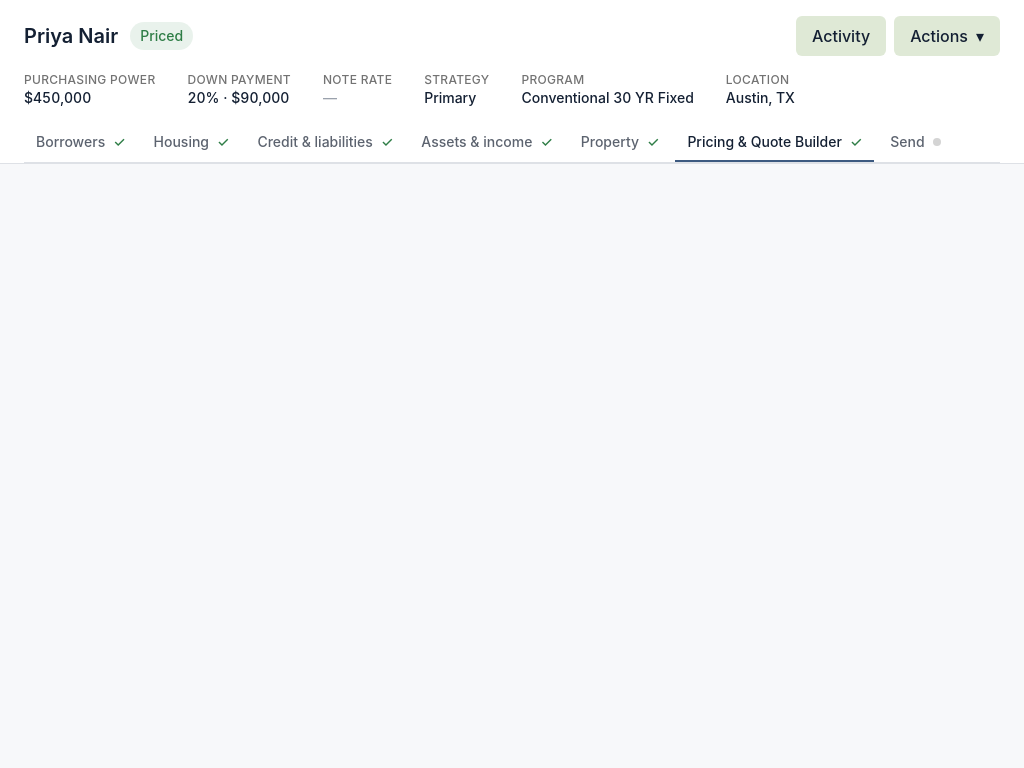
Test case: WorkspaceHeader (AC2/AC3) › opens the activity timeline drawer from the Activity button
Click the button "Activity". click: click(841, 36)
box: [796, 16, 886, 56]
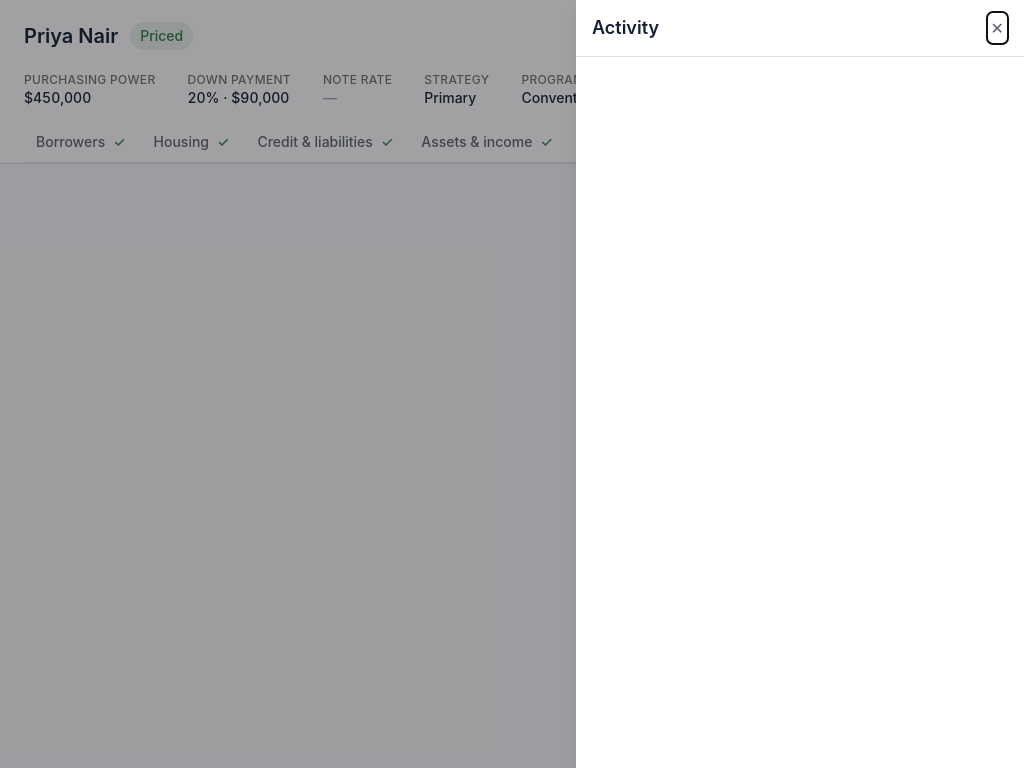
Expected: the dialog is shown, [576, 0, 1023, 767]
Expected: the heading "Activity" is shown, [592, 14, 659, 42]
